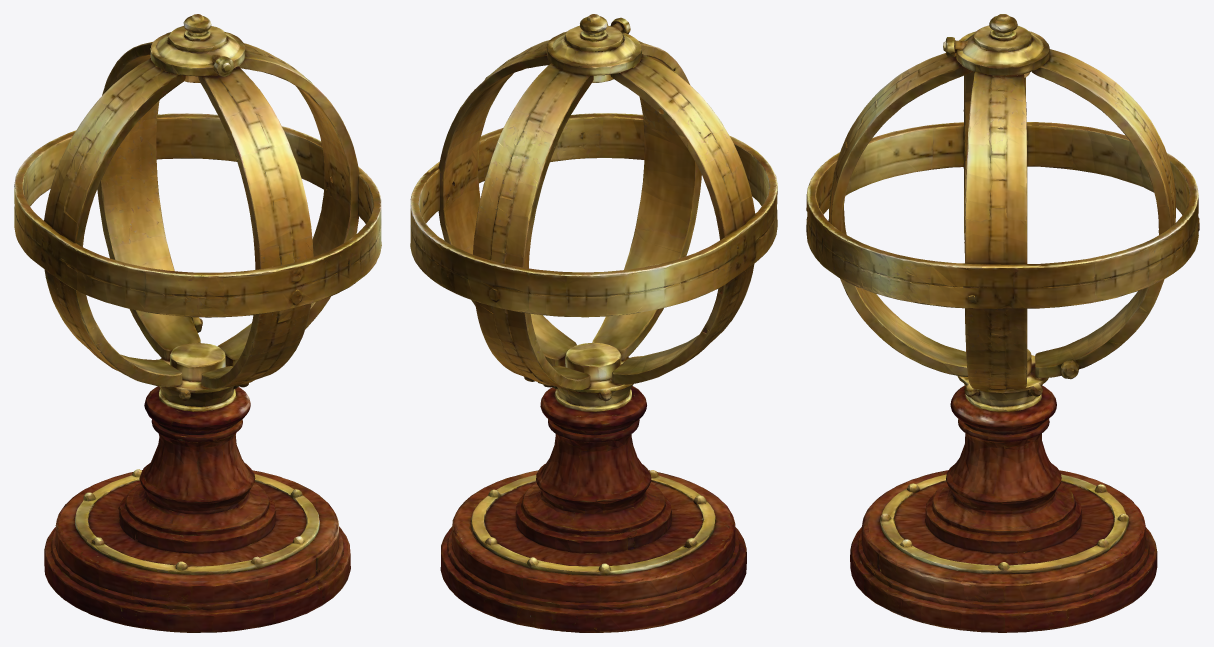
File: dress-armillary.glb
3 renders of one model, left to right at view 1: azimuth 30°, elevation 25°; view 2: azimuth 150°, elevation 25°; view 3: azimuth 270°, elevation 25°, orthographic.
Bounding box in the file's own units: 0.5631 × 0.9996 × 0.639.
Materials: 1 (1 with a texture image).
